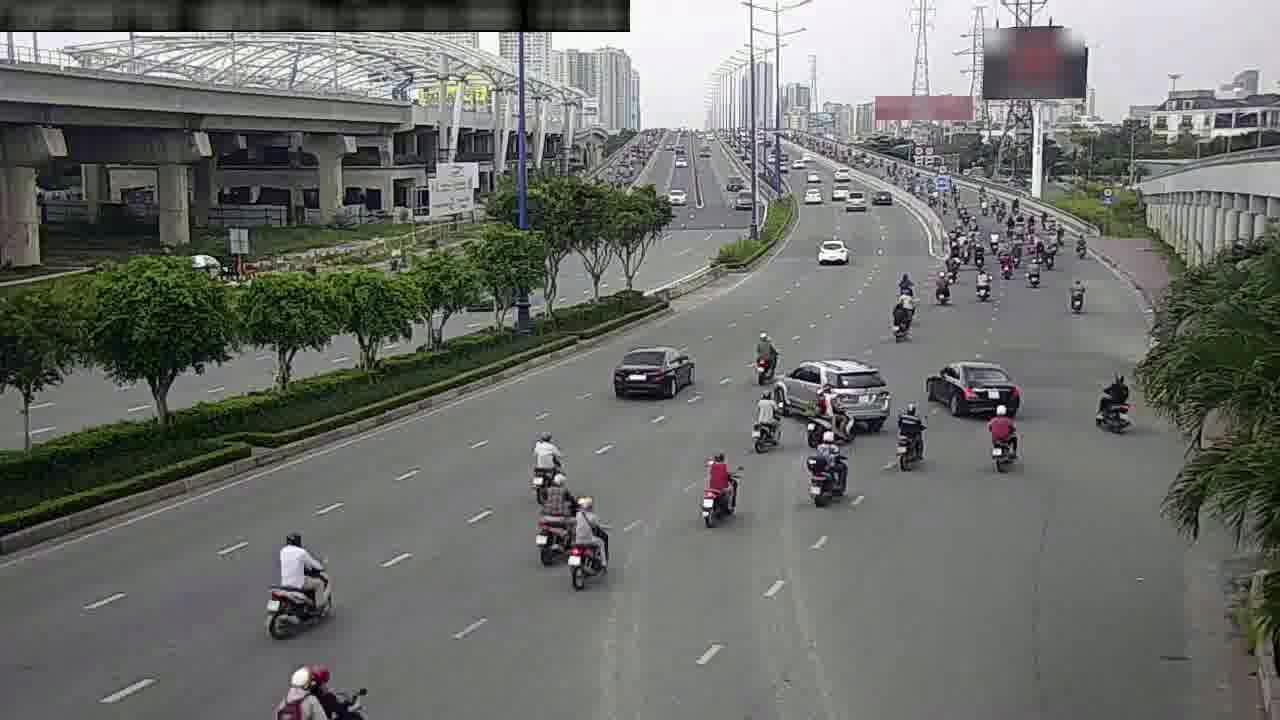container: (780, 350, 885, 421), (929, 352, 1017, 418), (613, 339, 694, 404)
motorbike: (263, 530, 339, 635), (276, 648, 369, 720), (560, 500, 614, 589), (527, 481, 579, 566), (692, 445, 742, 526), (799, 427, 850, 506), (1089, 367, 1136, 437), (979, 399, 1023, 468), (887, 401, 928, 471), (522, 429, 563, 498), (799, 397, 856, 445), (745, 390, 782, 455), (744, 328, 781, 384), (883, 294, 912, 340), (1061, 273, 1089, 314), (928, 267, 954, 307), (969, 265, 995, 304), (891, 268, 917, 303), (1020, 256, 1044, 292), (995, 248, 1015, 281)
